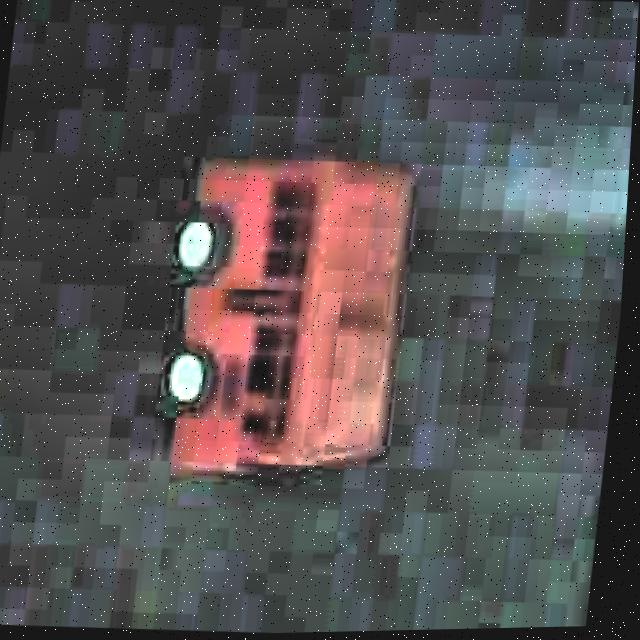bus: (142, 143, 424, 495)
